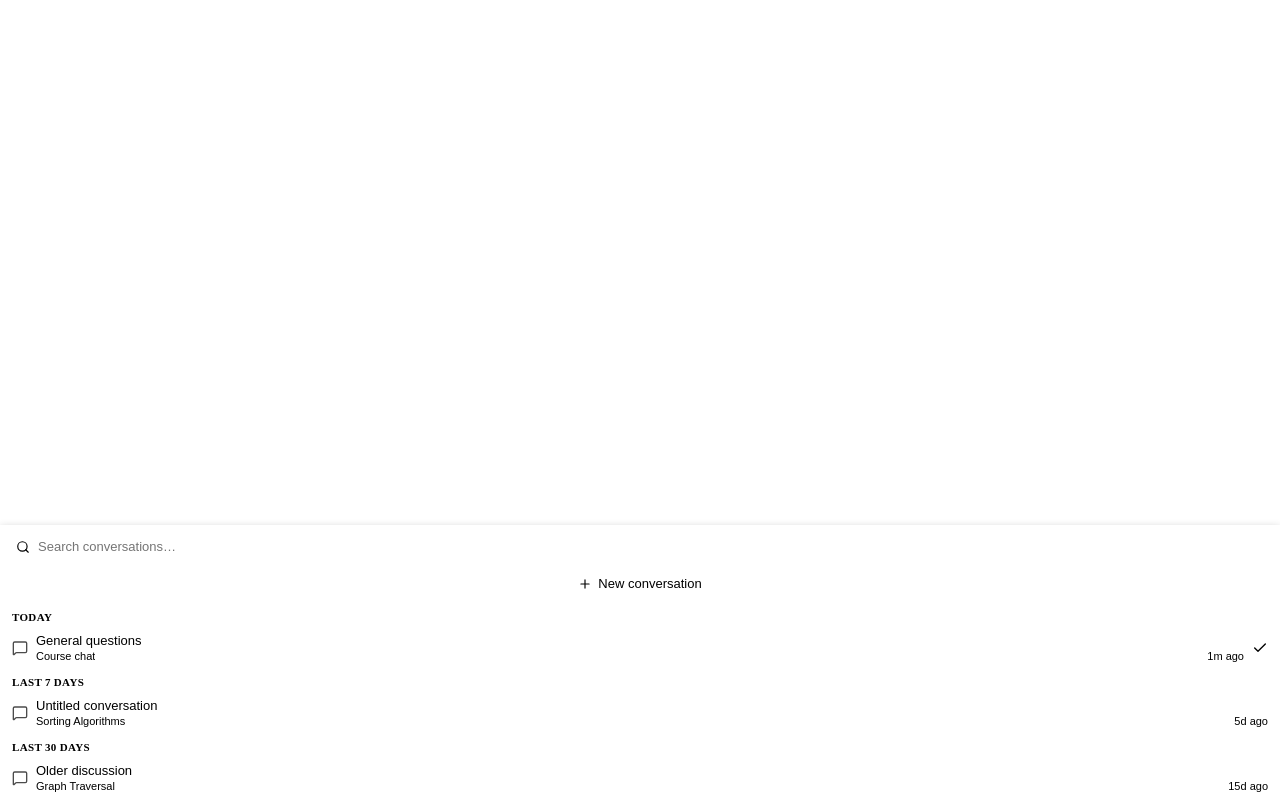
Test: ConversationHistory › filters by title and by entity name
(page scrolled)
In the field with placeholder "Search conversations…": x=640, y=546 [6,531,1274,562], type "sorting"
(page scrolled)
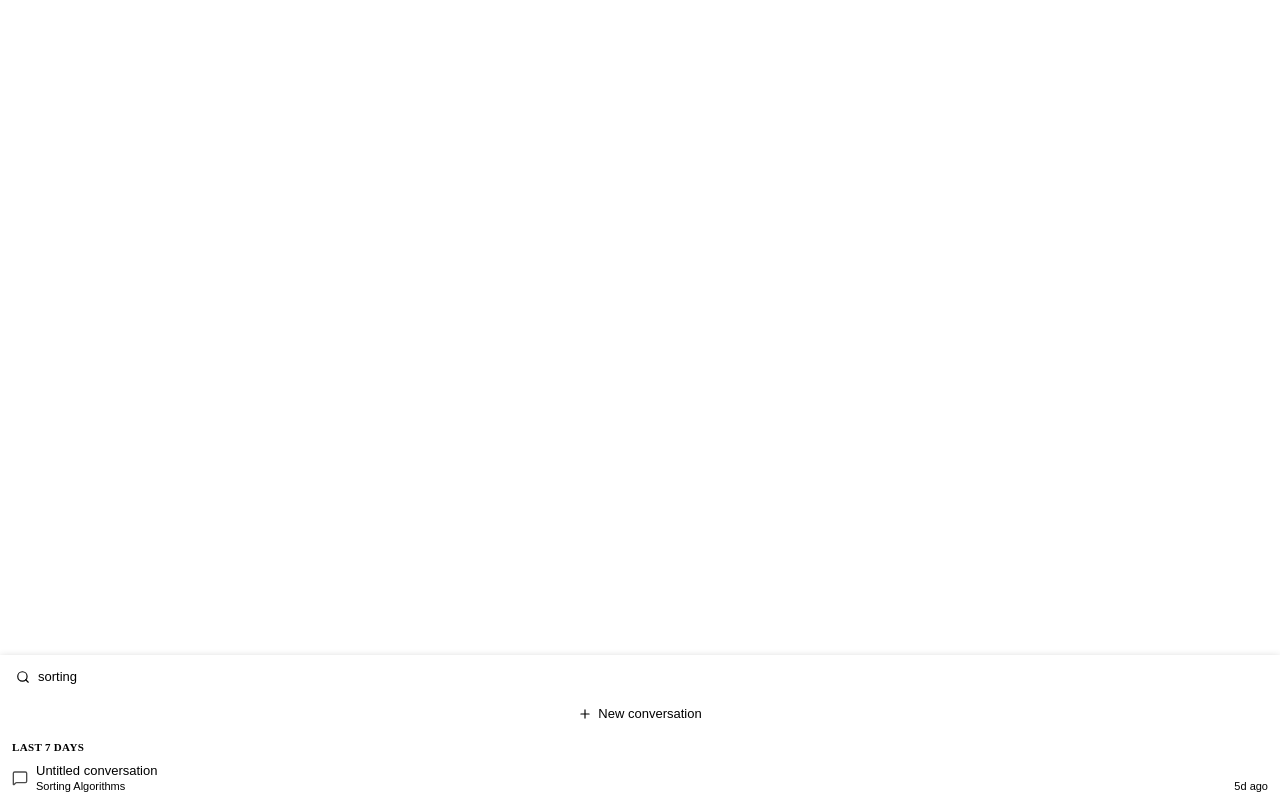
Check: the text "Untitled conversation" is shown, box [36,763,157,778]
Check: the button "General questions" is gone
